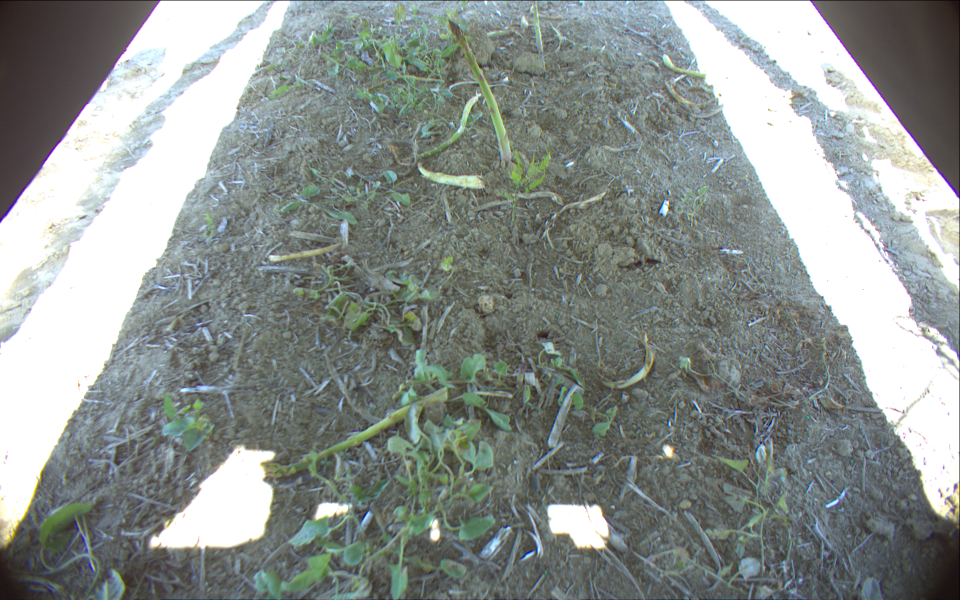aspa: (443, 18, 513, 165), (529, 1, 546, 56)
